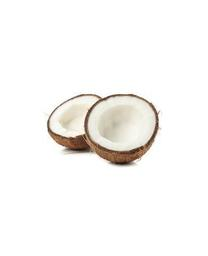coconut: (85, 94, 158, 167), (46, 92, 108, 151)
